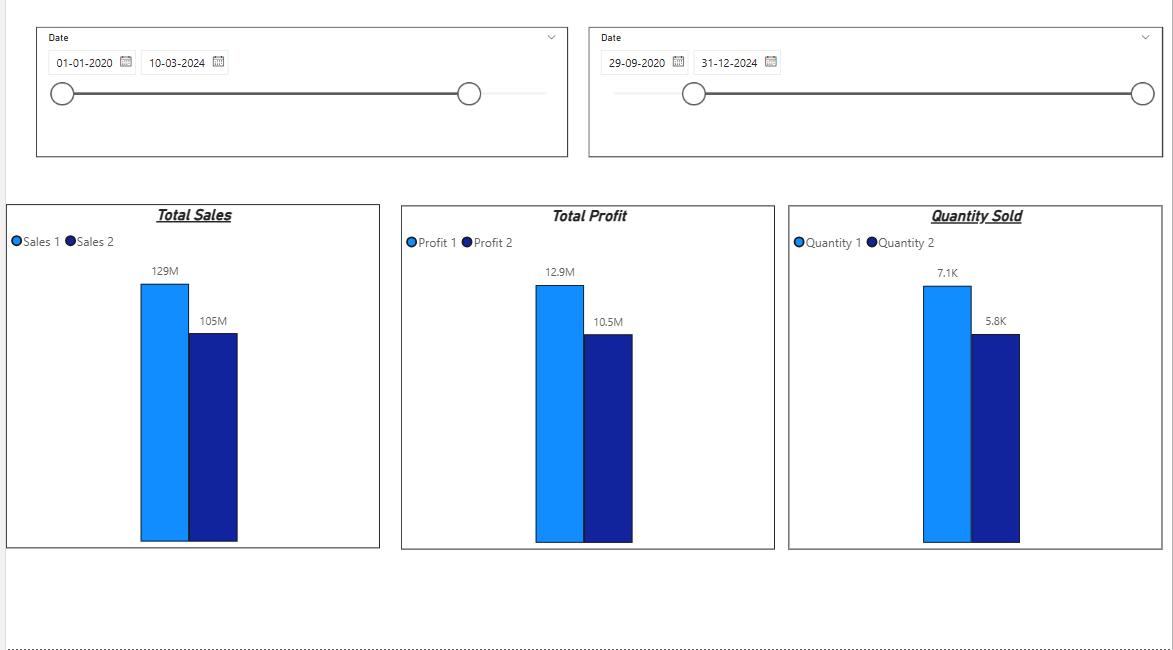

This screenshot's page, from the dashboard's own definition file:
{"tool":"powerbi","page":{"name":"Comaparison Sales/Profit/Quantity","canvas":[1280,720],"ordinal":2},"visuals":[{"type":"slicer","fields":{"Values":["Date Table1.Date"]},"box":[32.9,37.1,584.3,142.9],"z":0},{"type":"slicer","fields":{"Values":["Date Table2.Date"]},"box":[640,37.1,630,142.9],"z":1000},{"type":"clusteredColumnChart","title":"Total Sales","fields":{"Y":["Sum(Fact Table.Net Sales)","Date Table1.Sum of Net Sales"]},"box":[0,231.9,410.3,377.4],"z":2000},{"type":"clusteredColumnChart","title":"Total Profit","fields":{"Y":["Sum(Fact Table.Profit)","Measures Table.Total Profit"]},"box":[433.6,233.3,410.3,377.4],"z":3000},{"type":"clusteredColumnChart","title":"Quantity Sold","fields":{"Y":["Sum(Fact Table.Units Sold)","Measures Table.Quantity Sold"]},"box":[859,233.3,410.3,377.4],"z":4000}]}

Visuals, with their boxes in screenshot pixels (x1, y1, x2, y2), scaled from the page's 1280x720 canvas onto the 1173x650 screenshot:
slicer - Date Table1.Date: box(30, 33, 566, 162)
slicer - Date Table2.Date: box(586, 33, 1164, 162)
"Total Sales" clusteredColumnChart: box(0, 209, 376, 550)
"Total Profit" clusteredColumnChart: box(397, 211, 773, 551)
"Quantity Sold" clusteredColumnChart: box(787, 211, 1163, 551)
